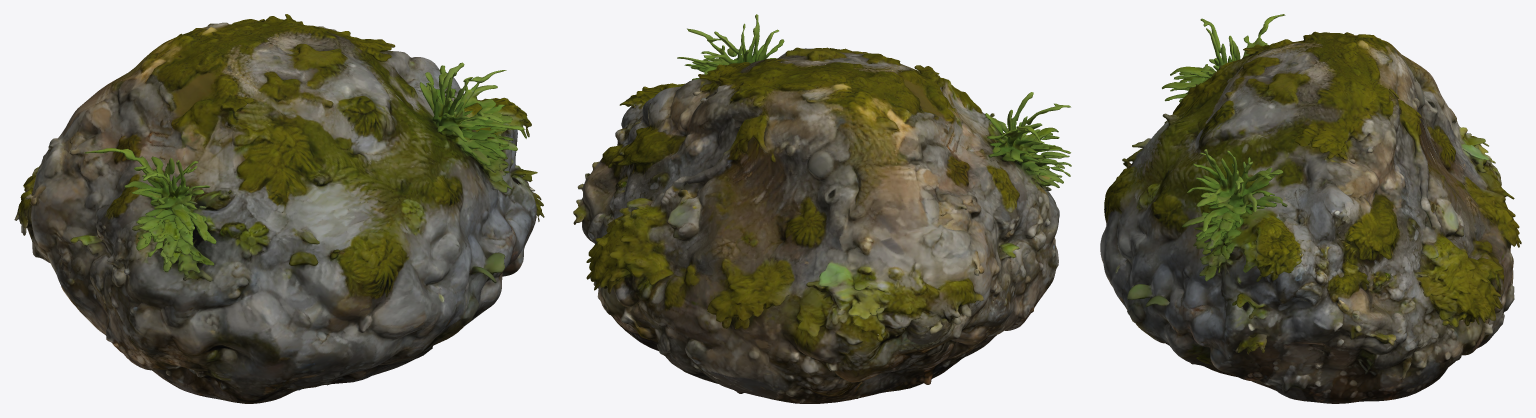
File: nature-rock-mossy.glb
The picture shows the model from 3 angles, left to right: view 1: azimuth 30°, elevation 25°; view 2: azimuth 150°, elevation 25°; view 3: azimuth 270°, elevation 25°; orthographic projection. The views are drawn at different scales.
Parts seen in each view (by area): view 1: tripo_node_e9b58bb6-138c-4dc5-9168-c7c0d3ed4835; view 2: tripo_node_e9b58bb6-138c-4dc5-9168-c7c0d3ed4835; view 3: tripo_node_e9b58bb6-138c-4dc5-9168-c7c0d3ed4835.
Boxes of the visible parts, x1=… form: tripo_node_e9b58bb6-138c-4dc5-9168-c7c0d3ed4835: x1=14, y1=14, x2=544, y2=403; tripo_node_e9b58bb6-138c-4dc5-9168-c7c0d3ed4835: x1=573, y1=14, x2=1071, y2=403; tripo_node_e9b58bb6-138c-4dc5-9168-c7c0d3ed4835: x1=1100, y1=14, x2=1521, y2=403.
Bounding box in the file's own units: 3.07 × 2 × 2.71.
1 material, 1 textured.
